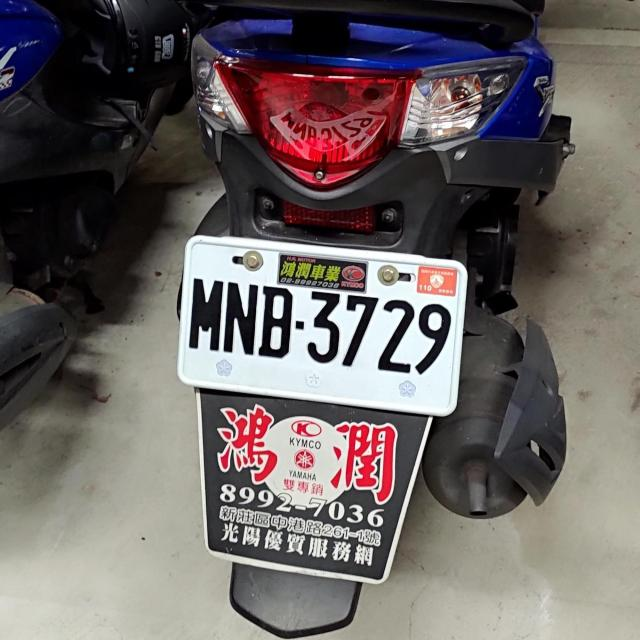W: (172, 233, 472, 413)
